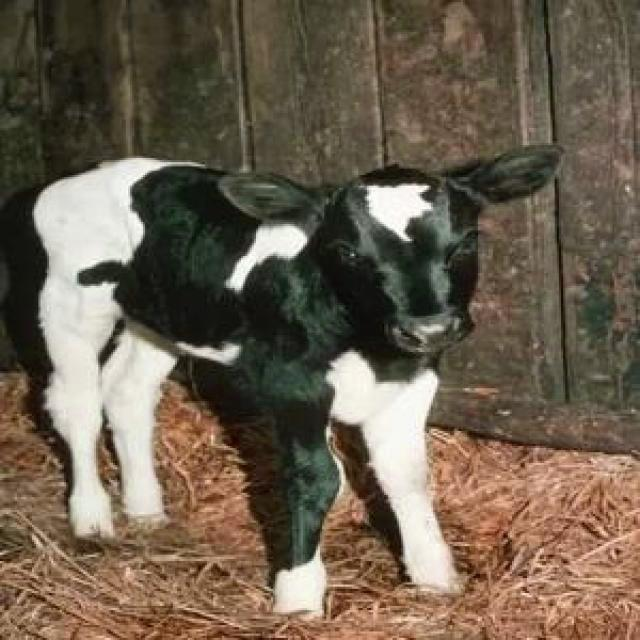cow: (0, 146, 560, 614)
